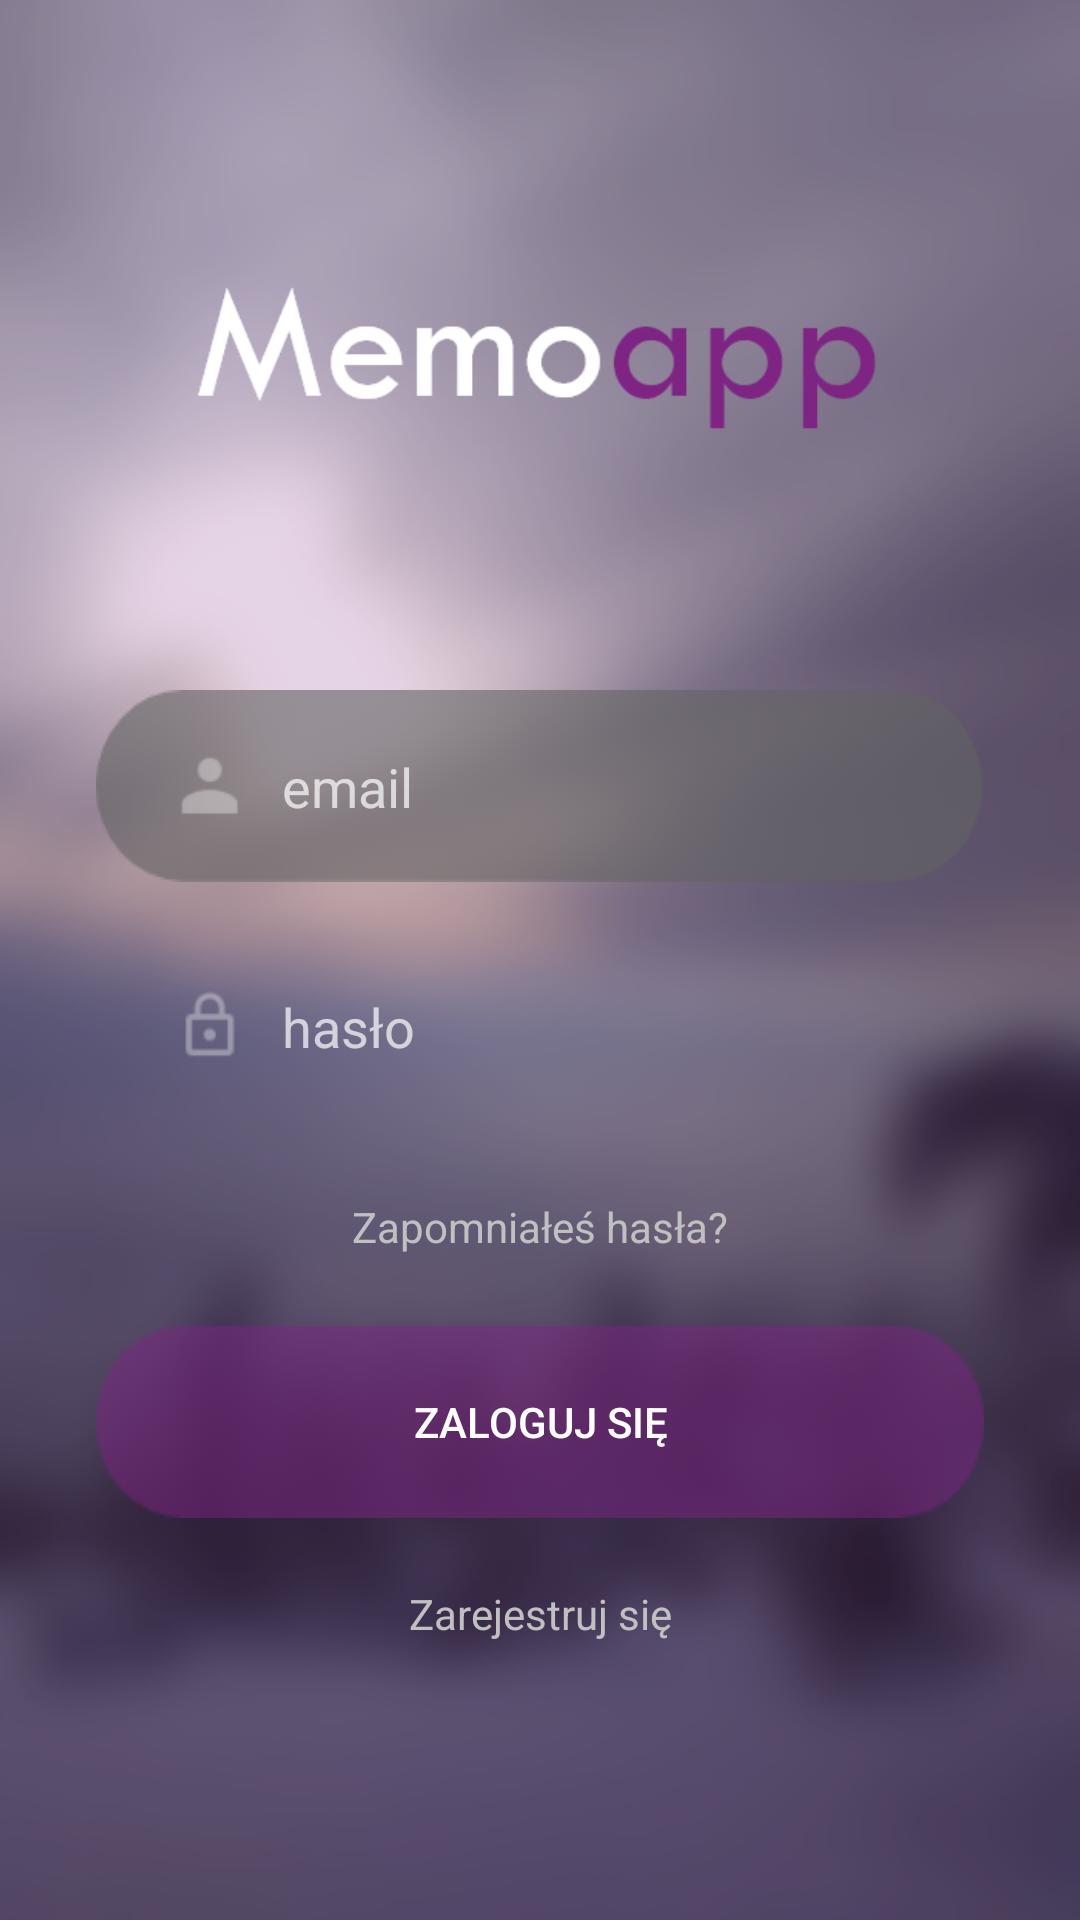

Locate icon controls on the screen. Image size 1080x1920, boxes as (x1, y1, x2, y2).
lock: (186, 991, 234, 1056)
person: (182, 758, 238, 814)
